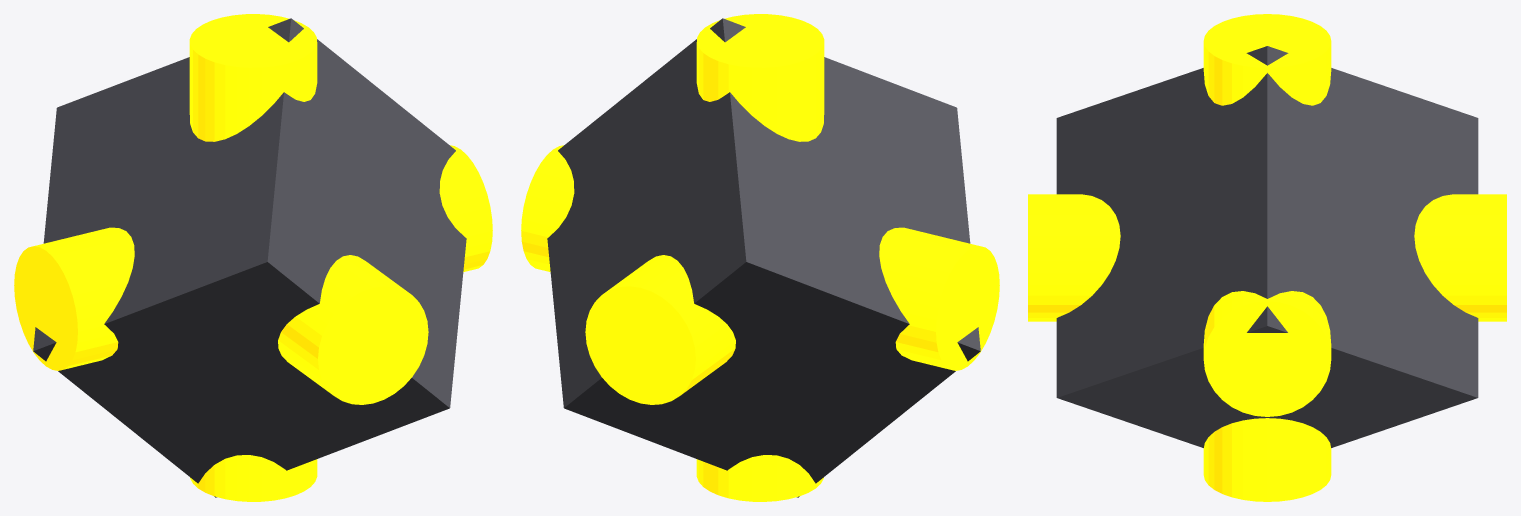
The model's file is pickup_weapon.glb.
The picture shows the model from 3 angles, left to right: view 1: azimuth 30°, elevation 25°; view 2: azimuth 150°, elevation 25°; view 3: azimuth 270°, elevation 25°; orthographic projection.
Parts seen in each view (by area): view 1: WeaponBox, Glyph_Y, Glyph_Z, Glyph_X; view 2: WeaponBox, Glyph_Y, Glyph_Z, Glyph_X; view 3: WeaponBox, Glyph_X, Glyph_Z, Glyph_Y.
Boxes of the visible parts, x1,y1,x2,y2 form: WeaponBox: (33,18,466,497); Glyph_Y: (14,145,492,370); Glyph_Z: (189,14,317,501); Glyph_X: (278,255,428,404); WeaponBox: (547,18,980,497); Glyph_Y: (521,145,999,370); Glyph_Z: (696,14,824,501); Glyph_X: (585,255,735,404); WeaponBox: (1056,46,1478,447); Glyph_X: (1028,194,1506,321); Glyph_Z: (1203,14,1331,501); Glyph_Y: (1203,291,1331,416).
Size of the model in its own units: 0.478 by 0.478 by 0.45.
